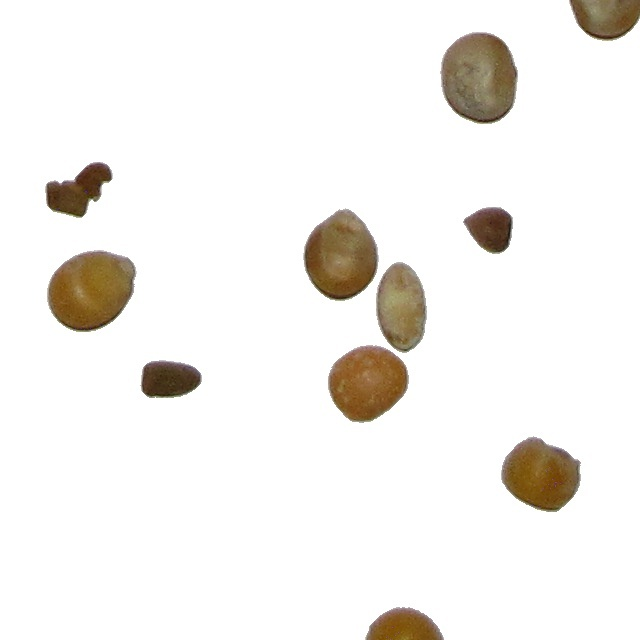buckwheat: (44, 161, 114, 219), (139, 359, 203, 399), (462, 206, 514, 255)
mais: (46, 249, 138, 333), (439, 31, 519, 125), (302, 207, 380, 302), (327, 344, 410, 424), (500, 435, 582, 513), (363, 606, 448, 640)
other: (375, 261, 428, 354)
